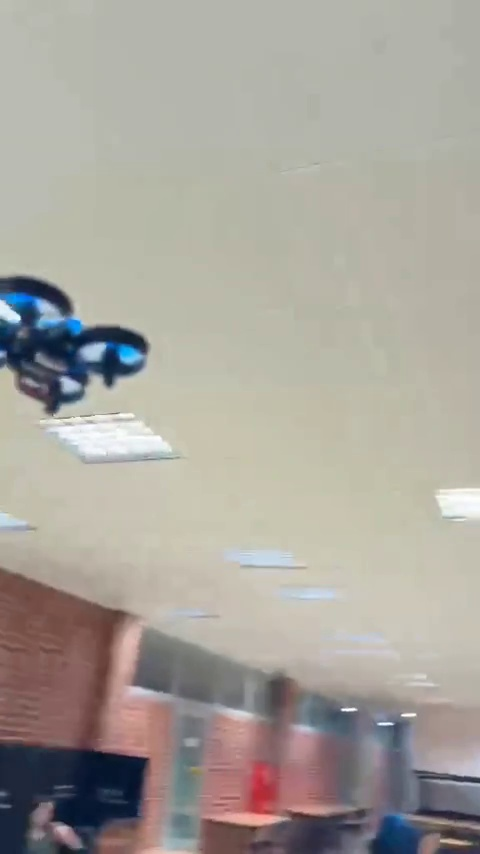drone: (0, 271, 144, 420)
